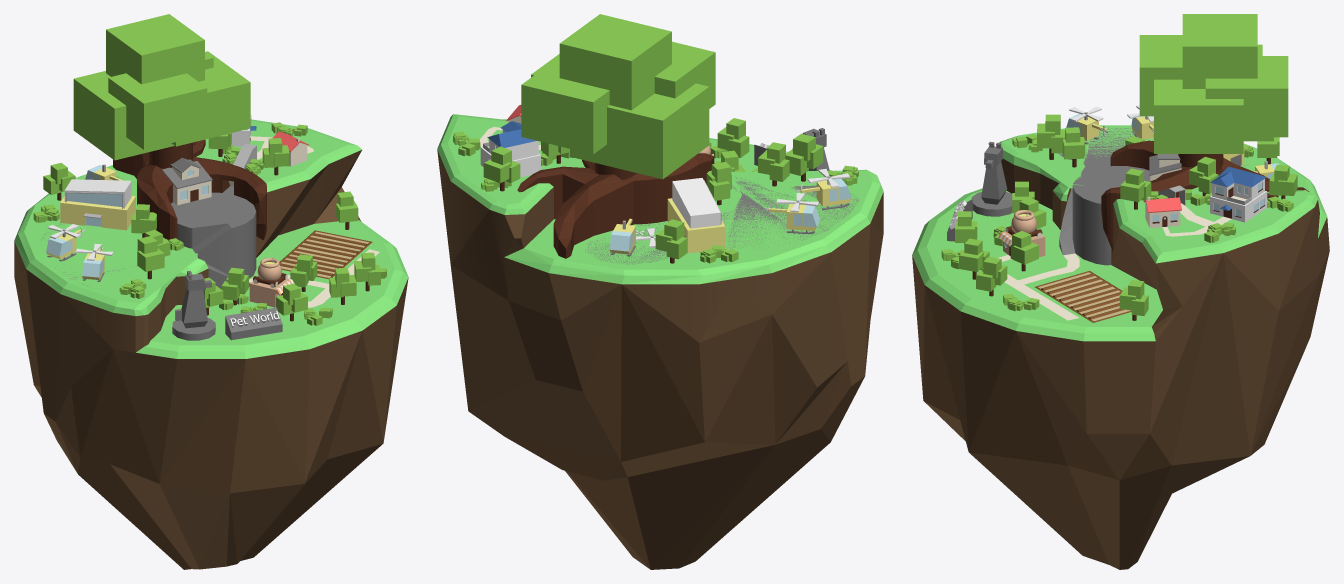
File: Pet world 1 220327.obj
3 renders of one model, left to right at view 1: azimuth 30°, elevation 25°; view 2: azimuth 150°, elevation 25°; view 3: azimuth 270°, elevation 25°, orthographic. The views are drawn at different scales.
Visible parts, largest first — view 1: Mesh6 Group1 Model, Mesh5 Group7 Group2 Group1 Model, Mesh2 Group4 Group2 Group1 Model, Mesh4 Group6 Group2 Group1 Model, Mesh24 Group25 Model, Mesh3 Group5 Group2 Group1 Model, Mesh59 Group61 Model, Mesh81 Group84 Group82 Model, Mesh82 Group86 Group85 Model, Mesh8 Group8 Model, Mesh91 Component_1_1 Model, Mesh58 Group60 Model (+14 smaller); view 2: Mesh6 Group1 Model, Mesh4 Group6 Group2 Group1 Model, Mesh2 Group4 Group2 Group1 Model, Mesh1 Group3 Group2 Group1 Model, Mesh24 Group25 Model, Mesh5 Group7 Group2 Group1 Model, Mesh14 Group15 Model, Mesh91 Component_1_1 Model, Mesh92 Component_1_2 Model, Mesh30 Group30 Model, Mesh18 Group18 Model, Mesh26 Group26 Model (+4 smaller); view 3: Mesh6 Group1 Model, Mesh3 Group5 Group2 Group1 Model, Mesh2 Group4 Group2 Group1 Model, Mesh1 Group3 Group2 Group1 Model, Mesh5 Group7 Group2 Group1 Model, Mesh14 Group15 Model, Mesh58 Group60 Model, Mesh59 Group61 Model, Mesh81 Group84 Group82 Model, Mesh44 Group46 Model, Mesh30 Group30 Model, Mesh92 Component_1_2 Model (+11 smaller).
Boxes of the visible parts, box(x1,y1,x2,y2) form: Mesh6 Group1 Model: box(14, 119, 408, 569); Mesh5 Group7 Group2 Group1 Model: box(108, 73, 207, 149); Mesh2 Group4 Group2 Group1 Model: box(106, 14, 204, 84); Mesh4 Group6 Group2 Group1 Model: box(73, 71, 174, 160); Mesh24 Group25 Model: box(60, 179, 135, 230); Mesh3 Group5 Group2 Group1 Model: box(171, 51, 250, 146); Mesh59 Group61 Model: box(294, 230, 372, 260); Mesh81 Group84 Group82 Model: box(175, 271, 211, 328); Mesh82 Group86 Group85 Model: box(225, 307, 282, 340); Mesh8 Group8 Model: box(162, 161, 212, 205); Mesh91 Component_1_1 Model: box(46, 224, 84, 261); Mesh58 Group60 Model: box(279, 249, 351, 279); Mesh6 Group1 Model: box(437, 114, 883, 569); Mesh4 Group6 Group2 Group1 Model: box(570, 83, 709, 179); Mesh2 Group4 Group2 Group1 Model: box(559, 14, 671, 110); Mesh1 Group3 Group2 Group1 Model: box(521, 57, 609, 154); Mesh24 Group25 Model: box(667, 178, 725, 253); Mesh5 Group7 Group2 Group1 Model: box(654, 41, 715, 108); Mesh14 Group15 Model: box(480, 121, 540, 177); Mesh91 Component_1_1 Model: box(764, 193, 819, 234); Mesh92 Component_1_2 Model: box(796, 169, 851, 209); Mesh30 Group30 Model: box(785, 133, 823, 175); Mesh18 Group18 Model: box(483, 146, 520, 183); Mesh26 Group26 Model: box(655, 219, 687, 259); Mesh6 Group1 Model: box(912, 125, 1329, 569); Mesh3 Group5 Group2 Group1 Model: box(1154, 79, 1243, 153); Mesh2 Group4 Group2 Group1 Model: box(1182, 14, 1257, 88); Mesh1 Group3 Group2 Group1 Model: box(1205, 56, 1288, 137); Mesh5 Group7 Group2 Group1 Model: box(1139, 35, 1182, 116); Mesh14 Group15 Model: box(1210, 166, 1267, 222); Mesh58 Group60 Model: box(1035, 271, 1118, 304); Mesh59 Group61 Model: box(1064, 289, 1131, 322); Mesh81 Group84 Group82 Model: box(981, 141, 1007, 204); Mesh44 Group46 Model: box(1143, 196, 1181, 227); Mesh30 Group30 Model: box(1037, 114, 1064, 153); Mesh92 Component_1_2 Model: box(1066, 106, 1108, 144).
Bounding box in the file's own units: 7878 × 11212 × 8049.
